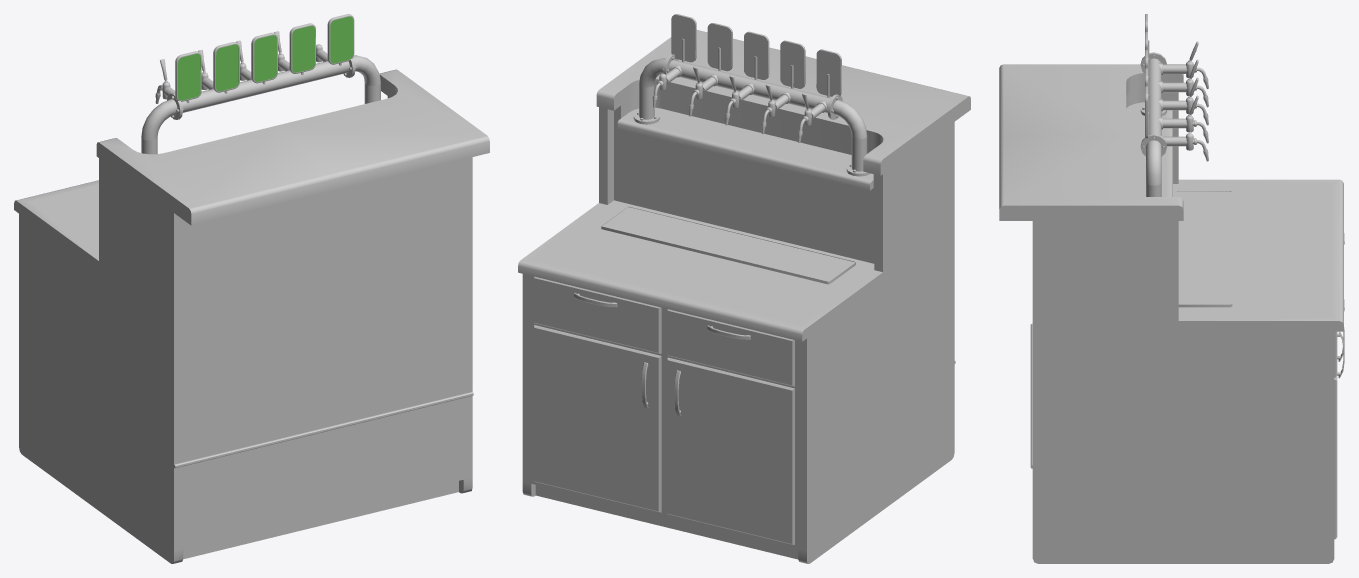
File: Reastaurant_Crane.fbx
The picture shows the model from 3 angles, left to right: view 1: azimuth 30°, elevation 25°; view 2: azimuth 150°, elevation 25°; view 3: azimuth 270°, elevation 25°; orthographic projection. The views are drawn at different scales.
Parts seen in each view (by area): view 1: Restaurant_Bar_Crane; view 2: Restaurant_Bar_Crane, Restaurant_Bar_Door_L_2, Restaurant_Bar_Door_R_2, Restaurant_Bar_Box_R_2, Restaurant_Bar_Box_L_2; view 3: Restaurant_Bar_Crane, Restaurant_Bar_Door_R_2.
Boxes of the visible parts, x1,y1,x2,y2 form: Restaurant_Bar_Crane: (14, 14, 489, 563); Restaurant_Bar_Crane: (518, 14, 970, 563); Restaurant_Bar_Door_L_2: (667, 357, 794, 544); Restaurant_Bar_Door_R_2: (534, 325, 661, 512); Restaurant_Bar_Box_R_2: (534, 276, 661, 353); Restaurant_Bar_Box_L_2: (667, 309, 794, 386); Restaurant_Bar_Crane: (999, 14, 1343, 563); Restaurant_Bar_Door_R_2: (1334, 331, 1344, 539).
Size of the model in its own units: 100 by 145 by 103.
